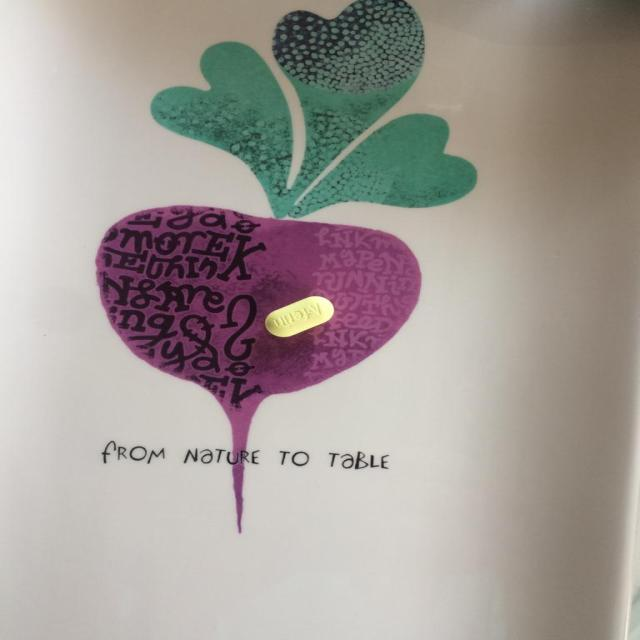pills: (255, 290, 342, 343)
